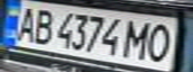3: (69, 11, 90, 52)
4: (100, 15, 127, 56), (51, 9, 75, 48)
7: (84, 12, 106, 53)
A: (9, 3, 42, 43)
B: (27, 6, 57, 45)
M: (121, 18, 157, 61)
O: (142, 20, 178, 63)
